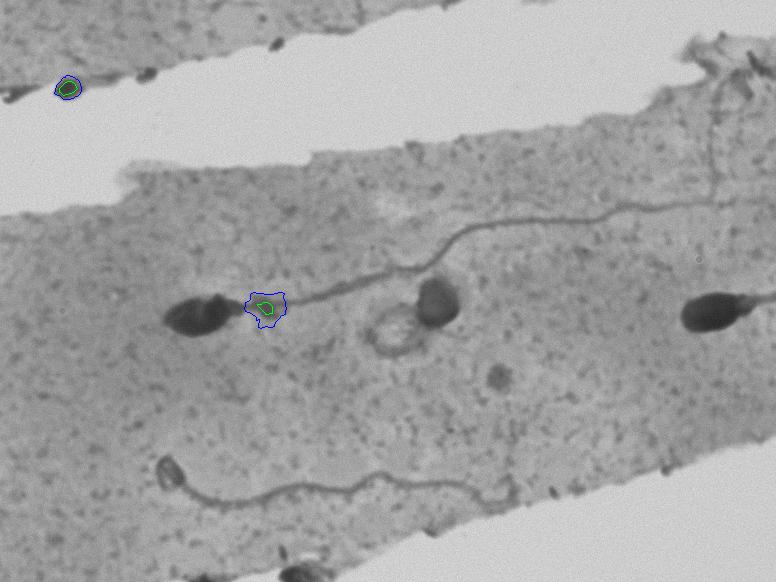Abnormal: (148, 149, 648, 385)
